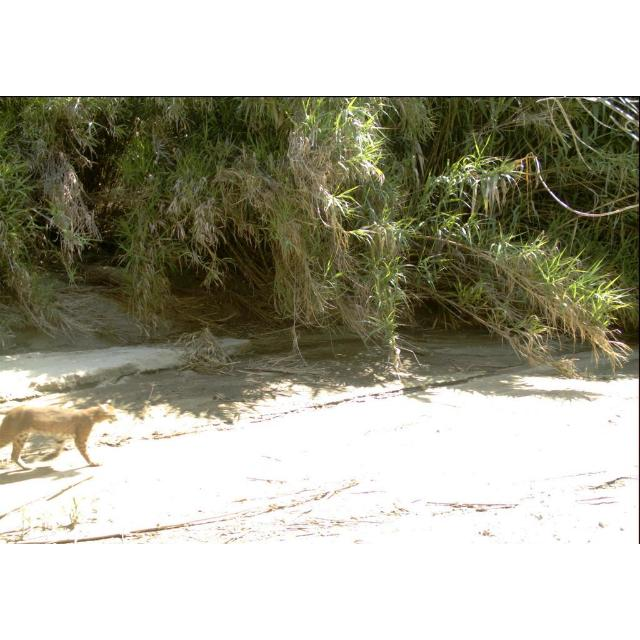animals: (0, 398, 120, 472)
